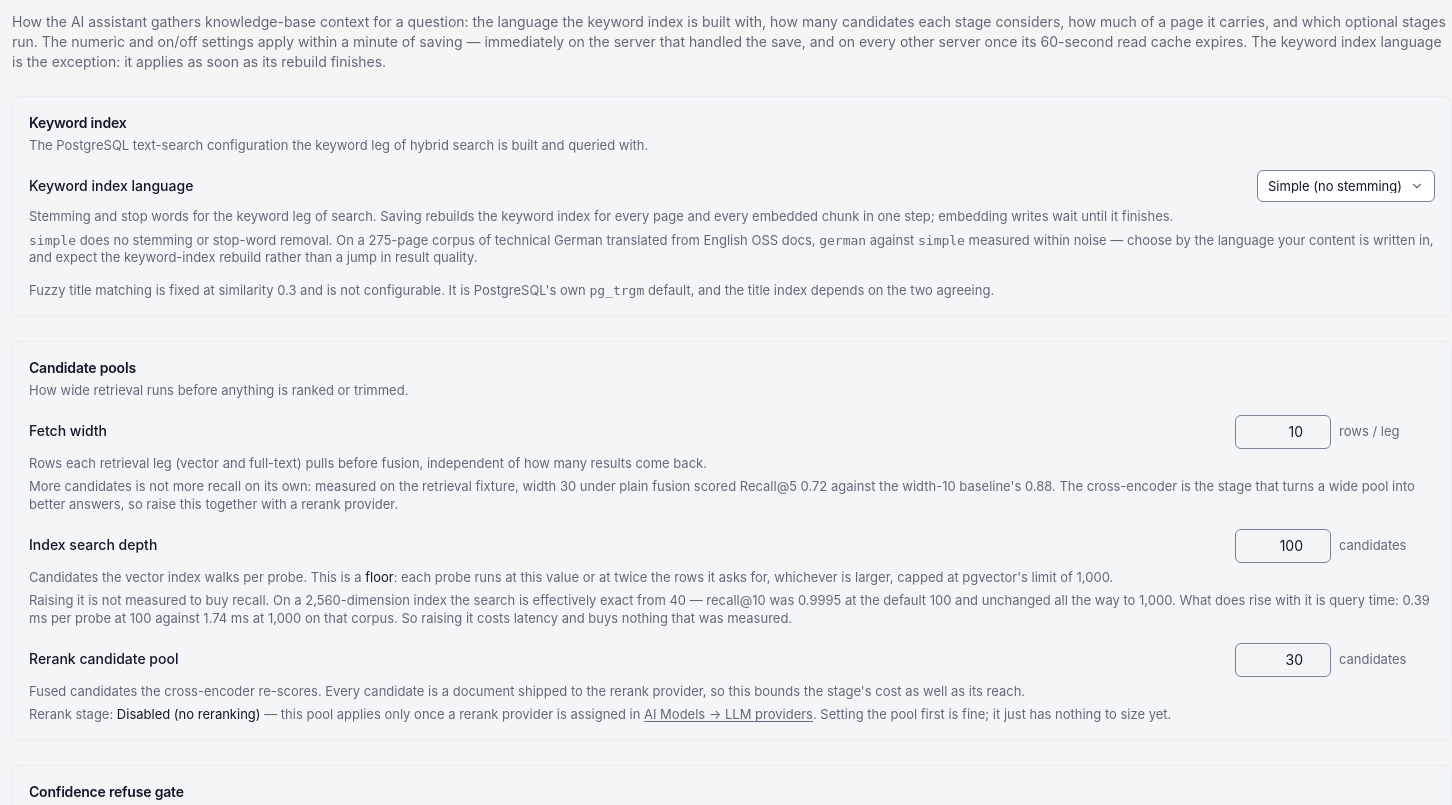
Test: RetrievalTab — keyword index language (#1114) › withholds the verdict when the re-read that would prove it also failed
The width and height of the screenshot is (1452, 805).
Select "German" in the dropdown with test id "retrieval-ftsLanguage" at (1346, 186), box [1257,170,1435,202]
(page scrolled)
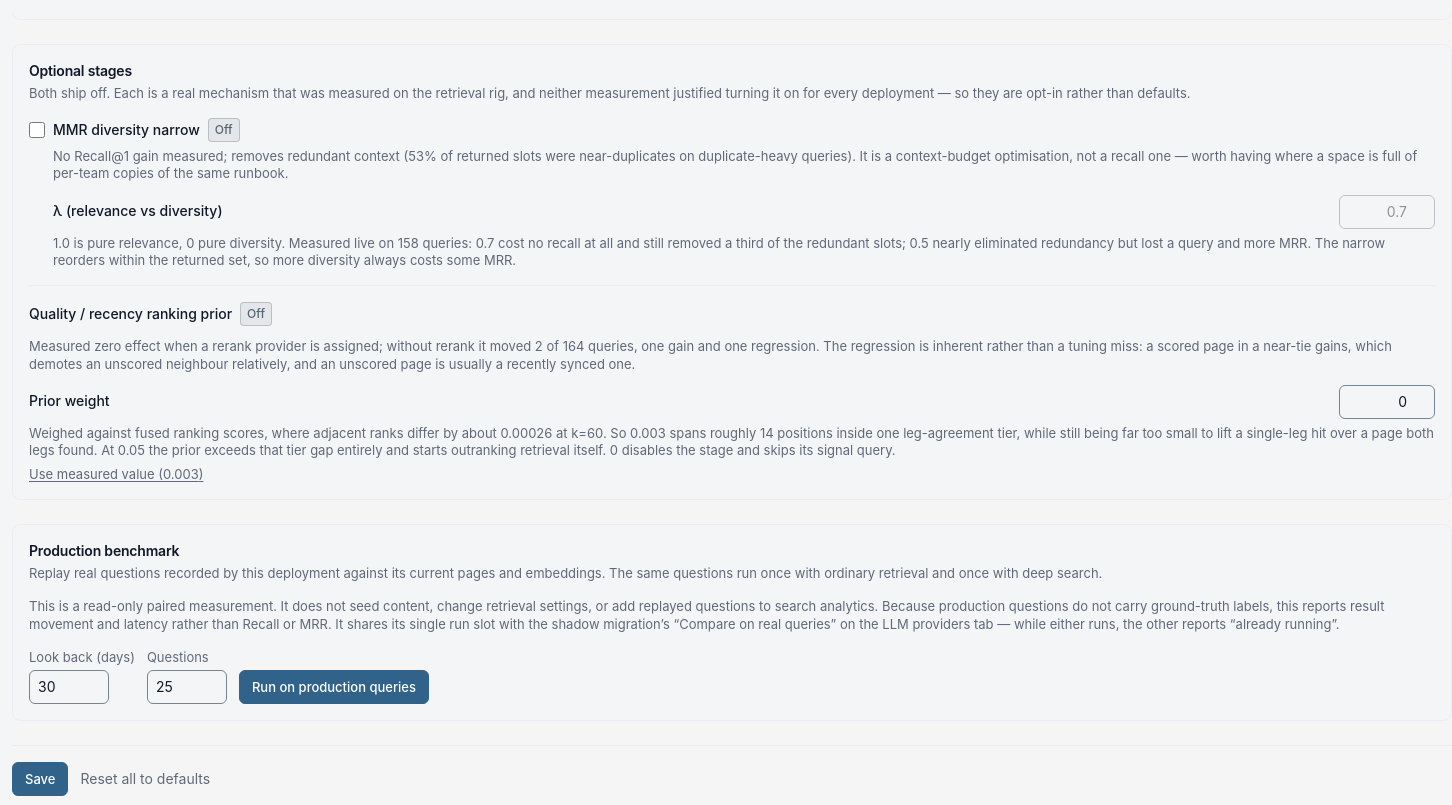
Click the button with test id "retrieval-save-btn".
click(40, 779)  # box [12,762,68,796]
(page scrolled)
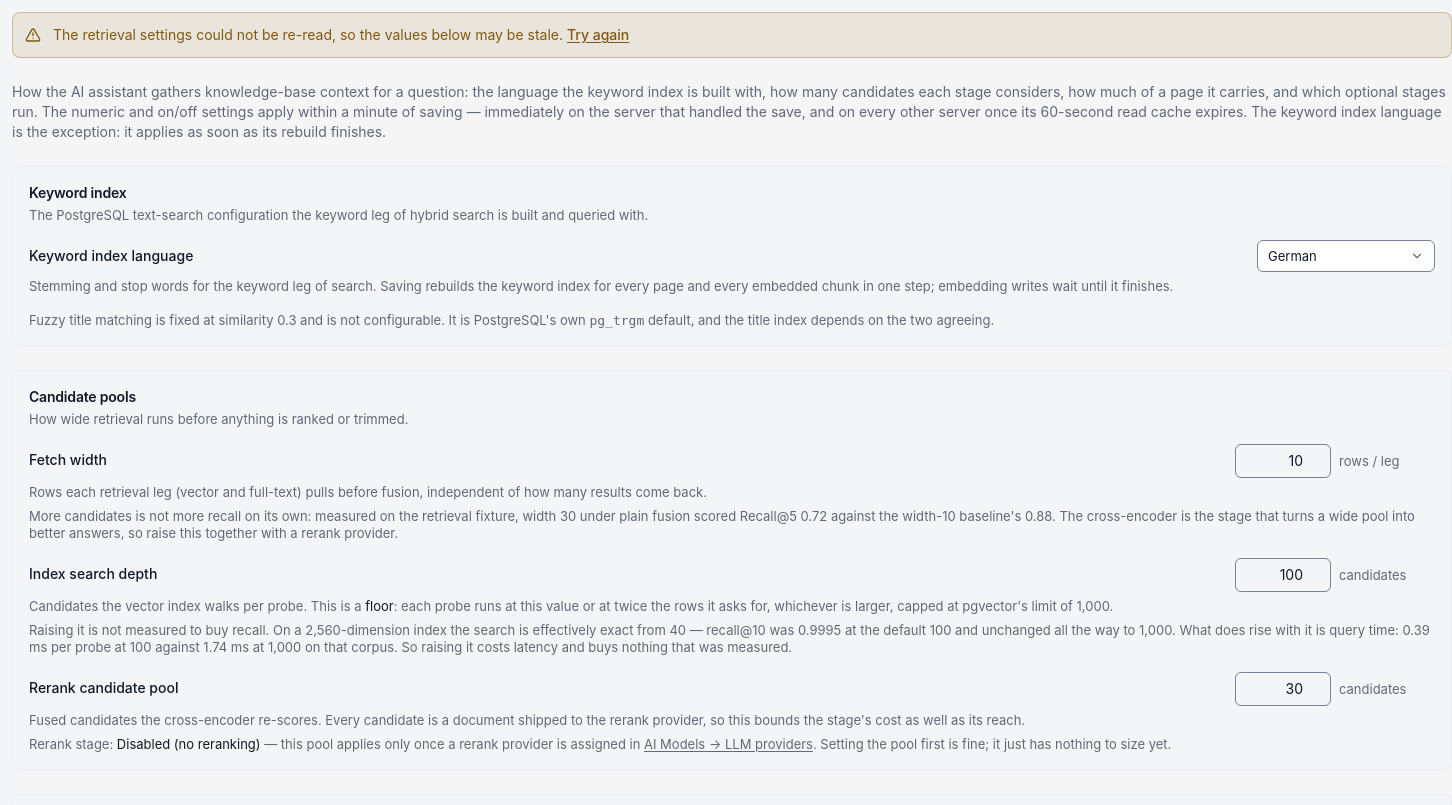
Now the message with test id "retrieval-settings-stale" is shown, box [12,12,1451,58]
